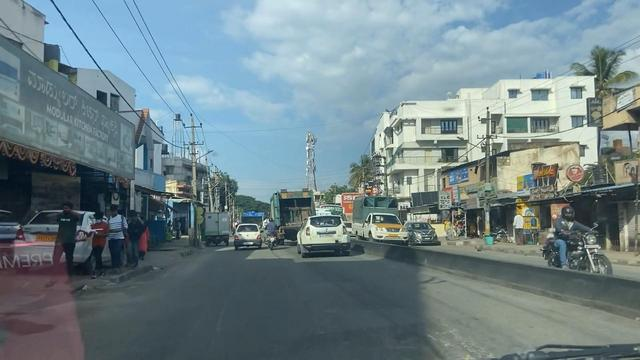LMV: (298, 216, 351, 256), (234, 224, 262, 249)
RoadDamages: (419, 324, 500, 360)
